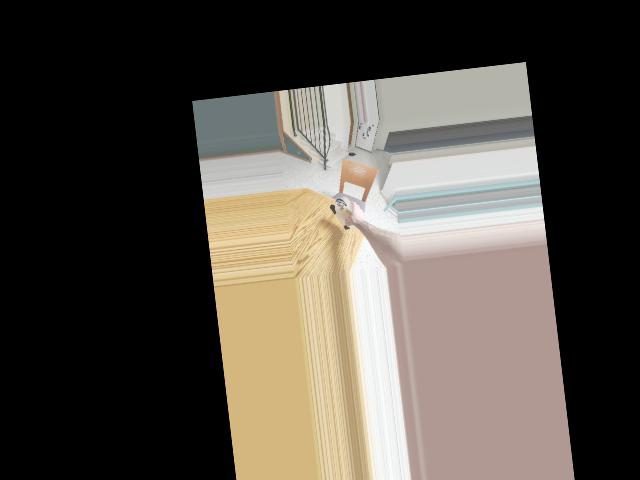cheese: (329, 194, 365, 233)
